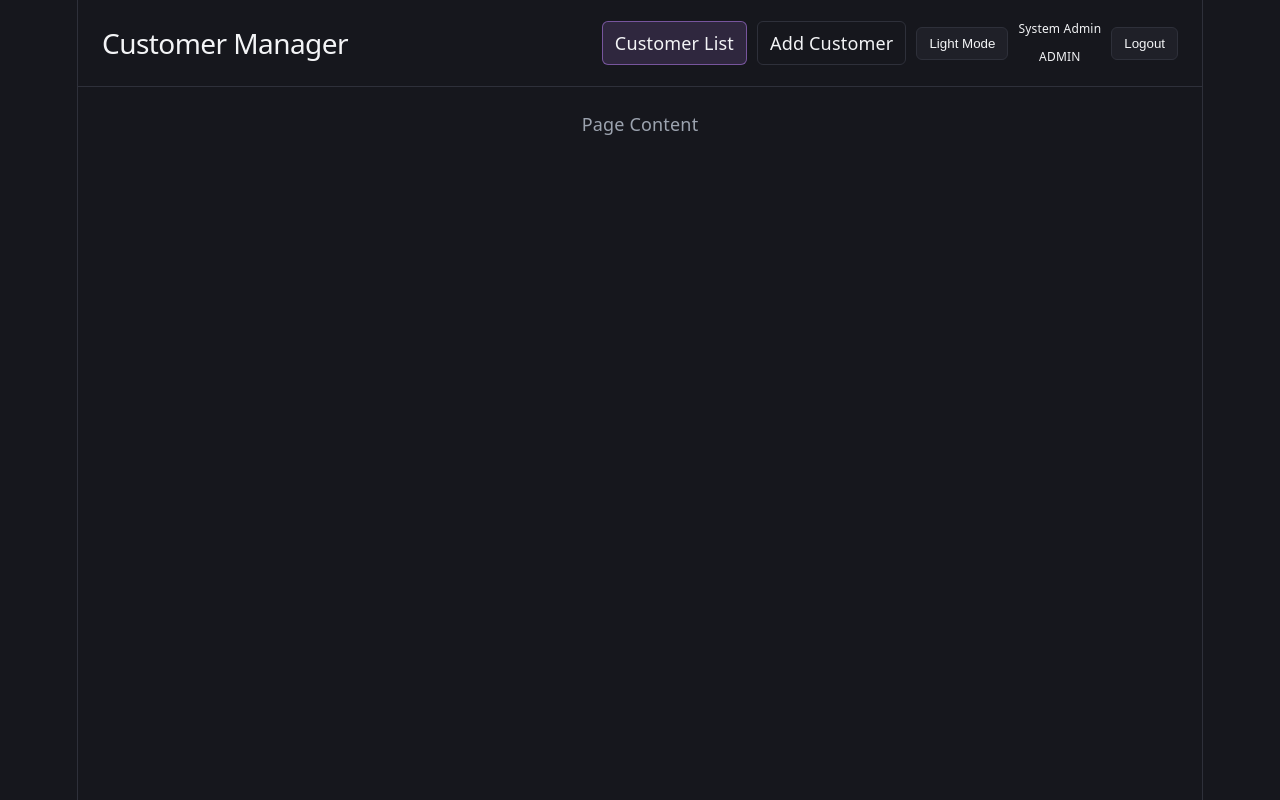
Test case: Layout theme behavior › loads saved dark theme and toggles/persists to light
Click the button "Light Mode". click: (962, 43)
box: [916,27,1008,60]
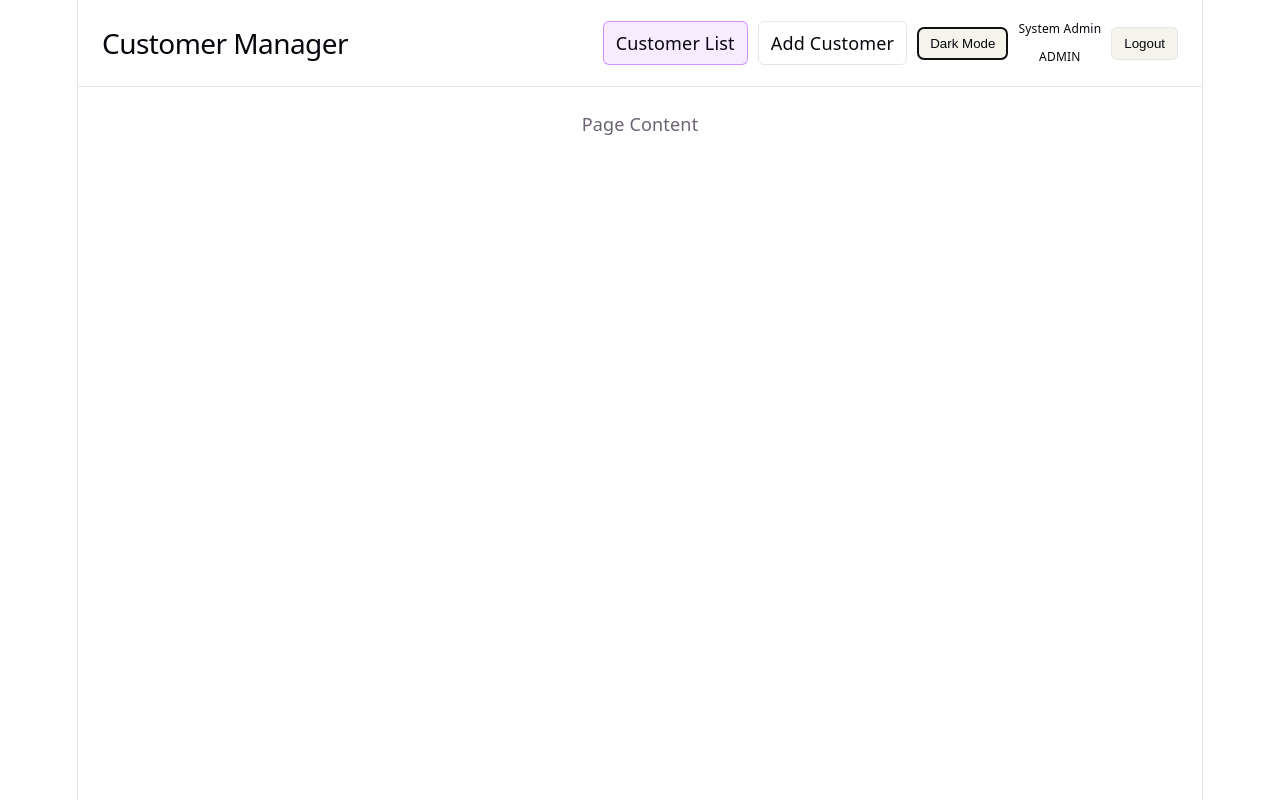
Now the button "Dark Mode" is shown, box [917,27,1008,60]
